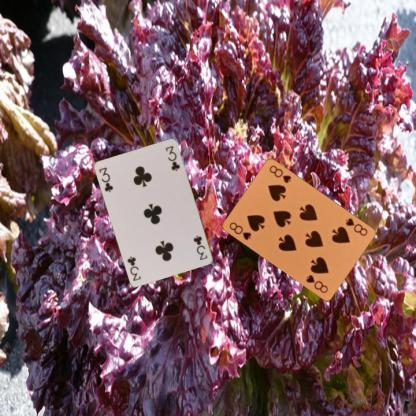3c: (191, 232, 209, 262), (96, 165, 114, 194)
8s: (342, 214, 368, 237), (226, 219, 251, 242)
